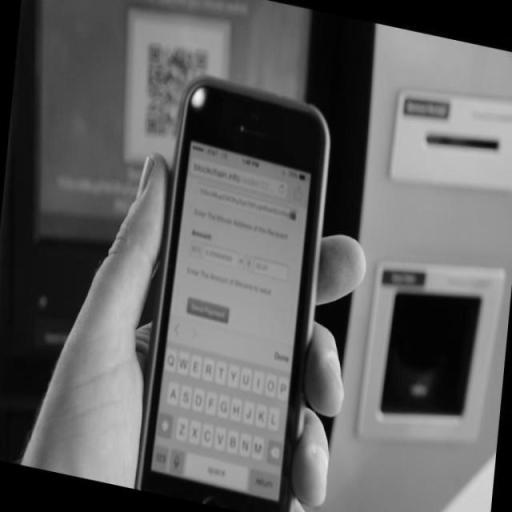phone: (137, 83, 329, 512)
